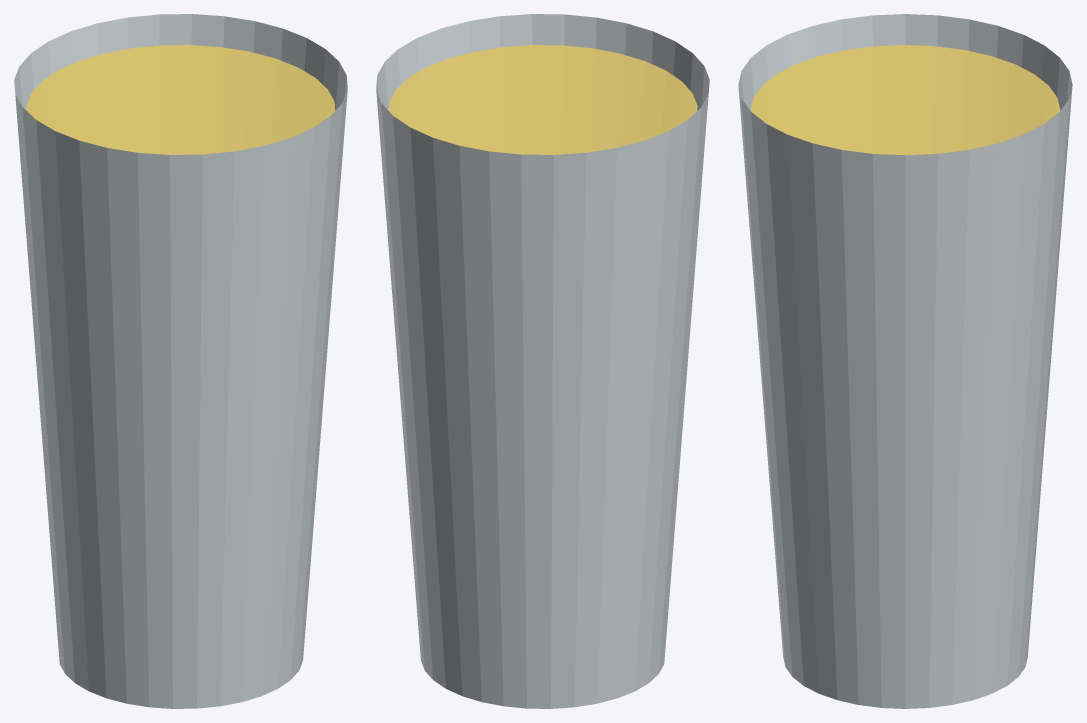
Rendered from glass_pint.glb.
3 renders of one model, left to right at view 1: azimuth 30°, elevation 25°; view 2: azimuth 150°, elevation 25°; view 3: azimuth 270°, elevation 25°, orthographic.
Visible parts, largest first — view 1: GlassBody, LIQUID_SHAPE; view 2: GlassBody, LIQUID_SHAPE; view 3: GlassBody, LIQUID_SHAPE.
Boxes of the visible parts, <box> form: GlassBody: <box>14,14,347,708</box>; LIQUID_SHAPE: <box>26,45,335,154</box>; GlassBody: <box>376,14,709,708</box>; LIQUID_SHAPE: <box>388,45,697,154</box>; GlassBody: <box>738,14,1072,708</box>; LIQUID_SHAPE: <box>750,45,1060,155</box>.
Bounding box in the file's own units: 0.082 × 0.155 × 0.082.
